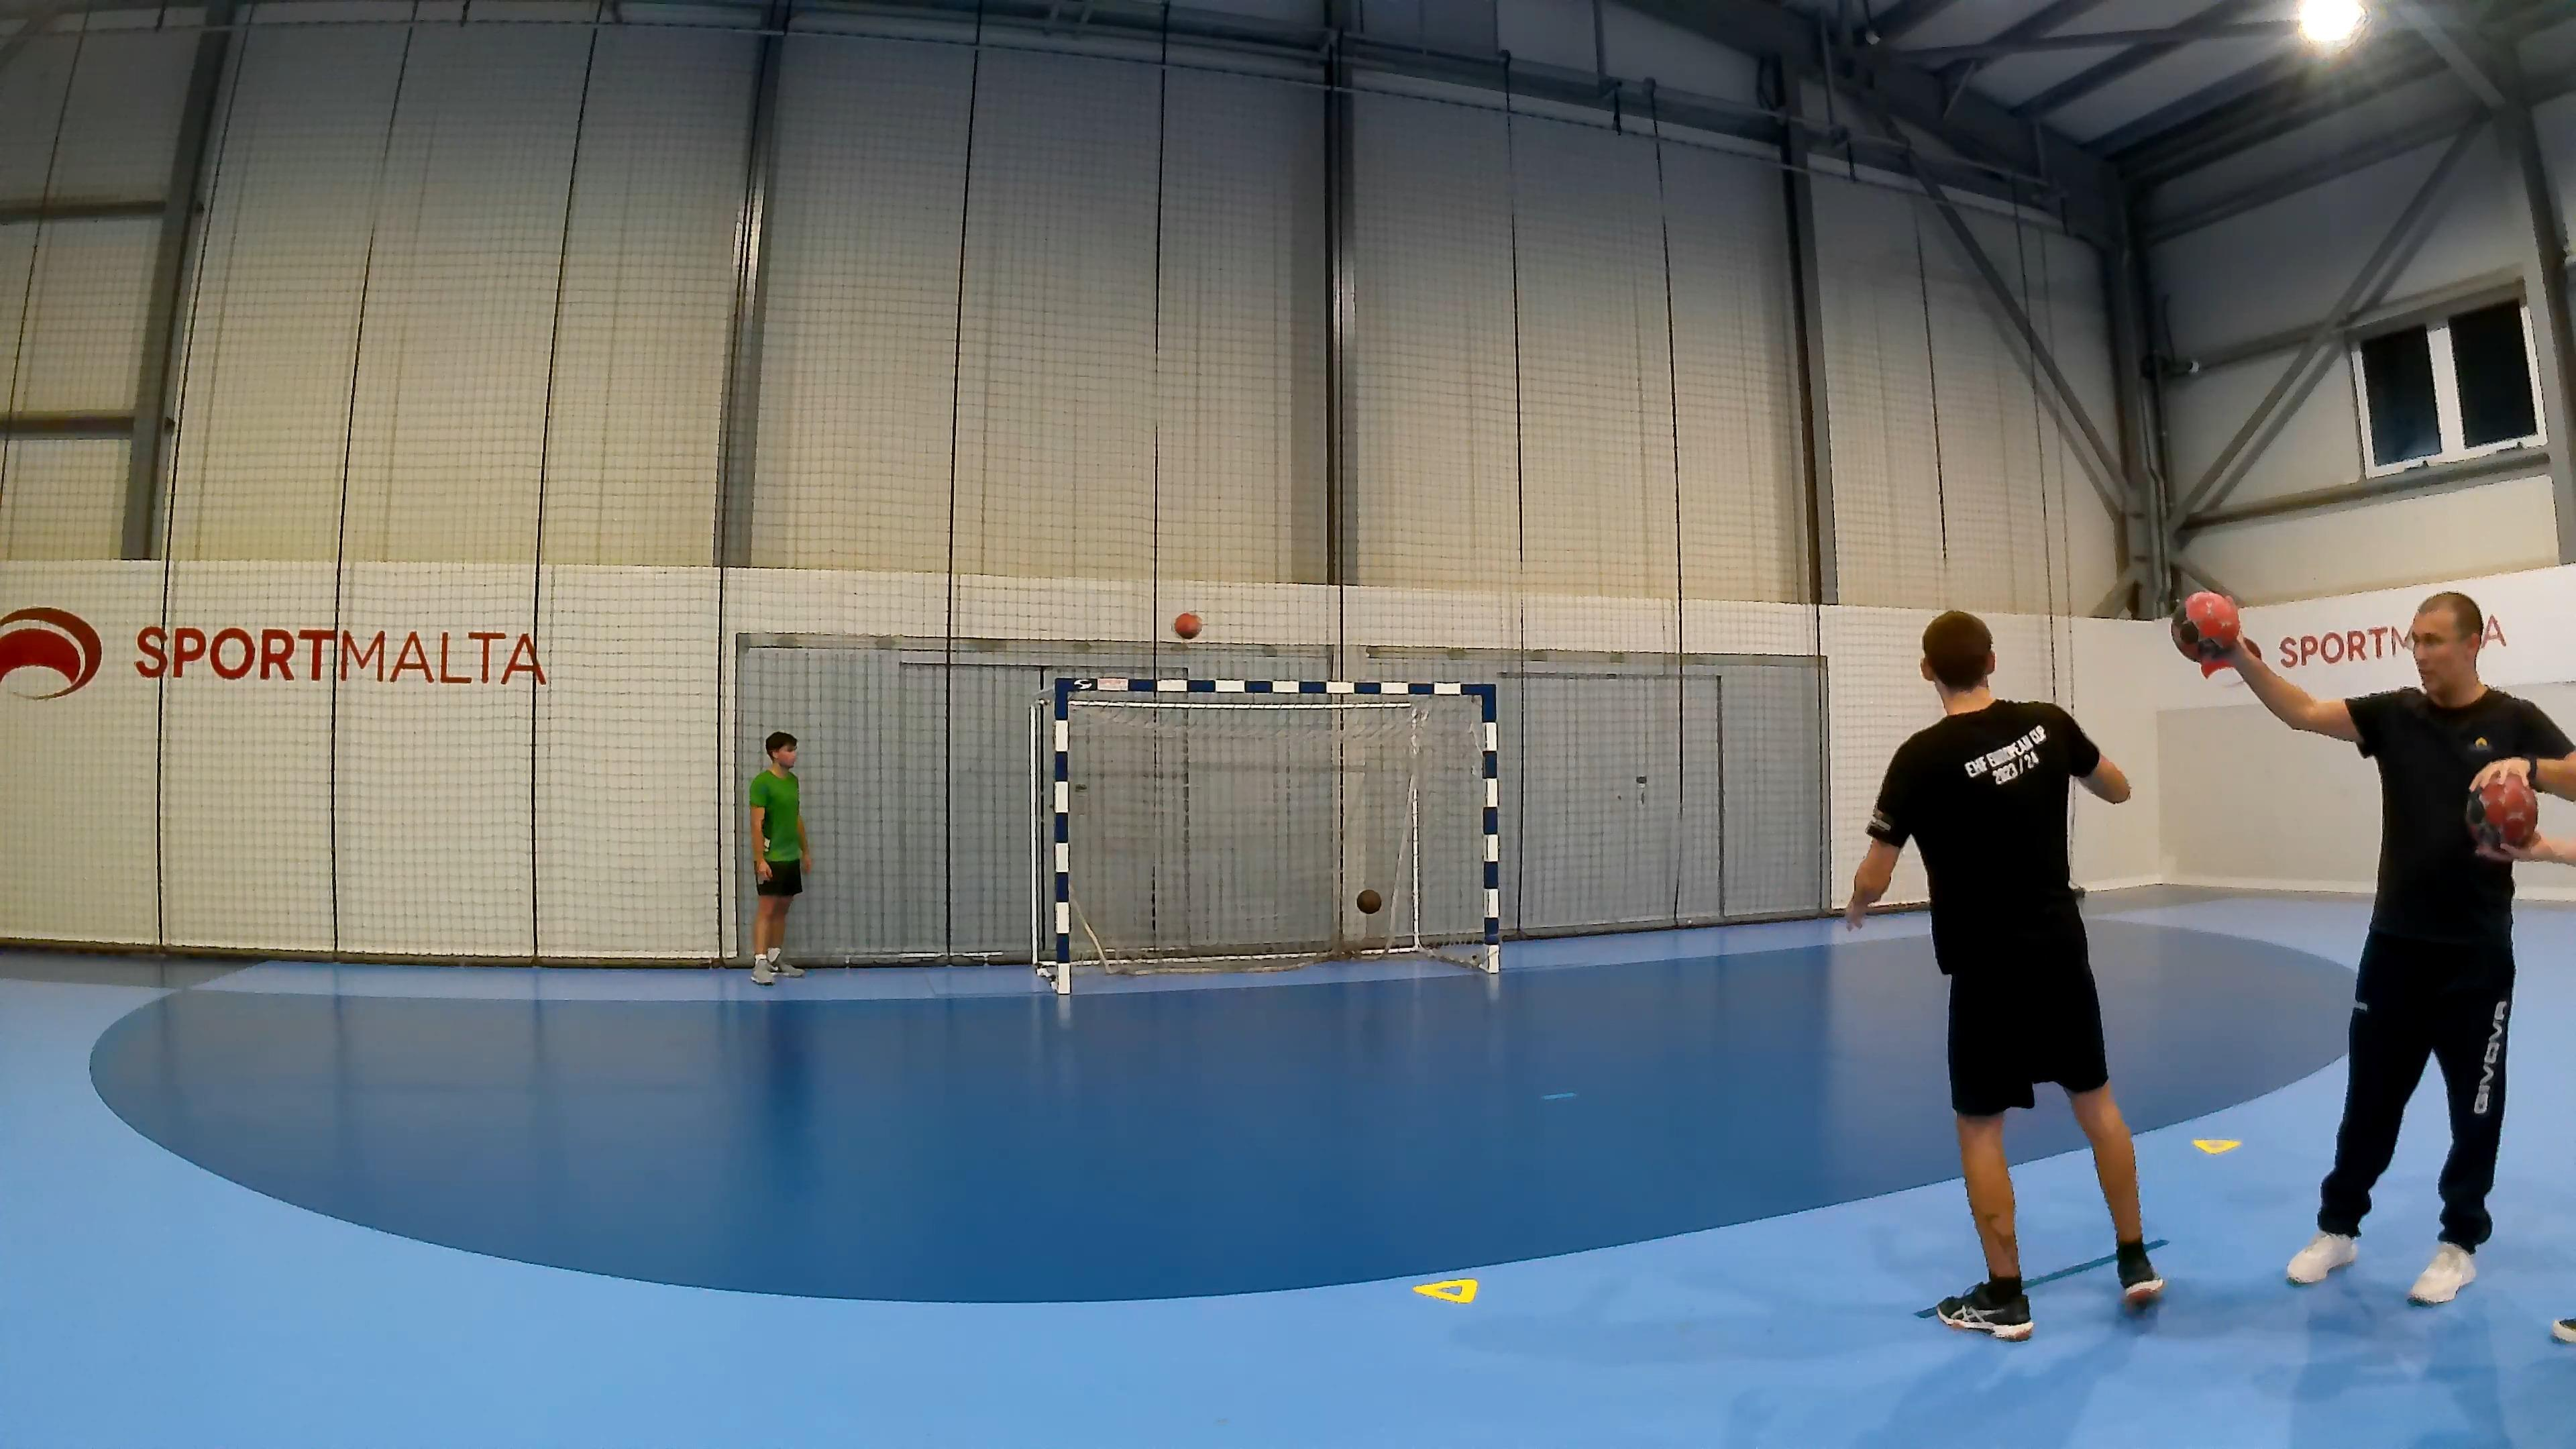handball: (2473, 771, 2537, 849), (2176, 589, 2240, 656), (1353, 881, 1382, 916), (1171, 610, 1201, 639)
